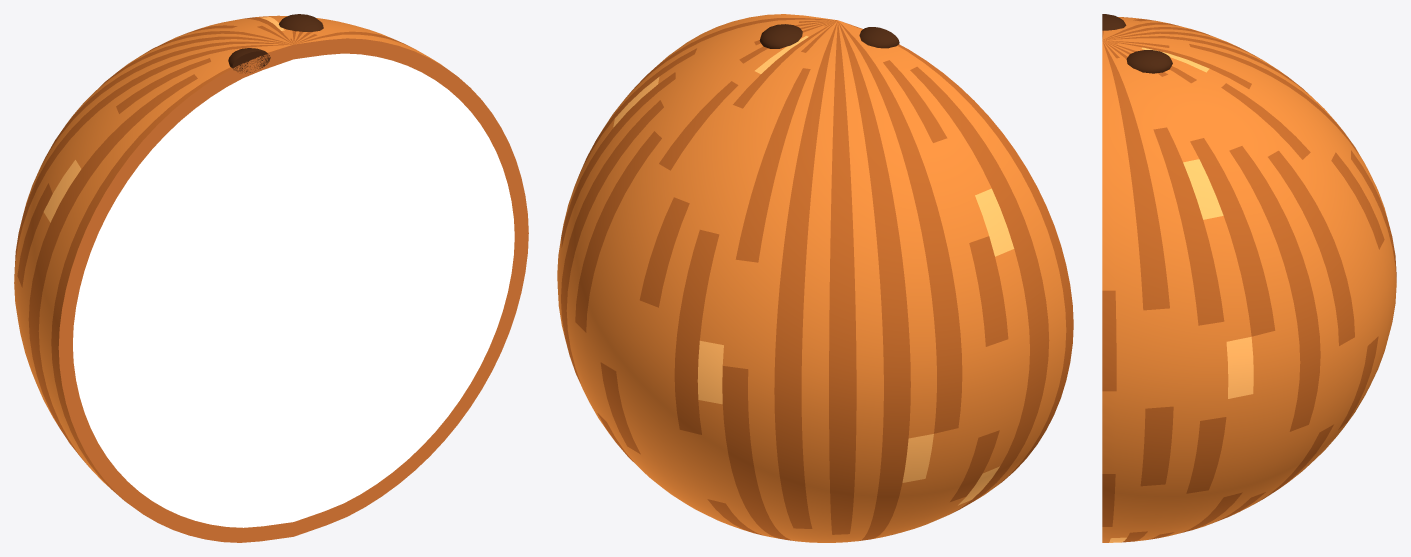
The picture shows the model from 3 angles, left to right: view 1: azimuth 30°, elevation 25°; view 2: azimuth 150°, elevation 25°; view 3: azimuth 270°, elevation 25°; orthographic projection. The views are drawn at different scales.
Parts seen in each view (by area): view 1: Coconut-left; view 2: Coconut-left; view 3: Coconut-left.
Part boxes in pixels (x1,y1,x2,y2): Coconut-left: (14, 14, 528, 542); Coconut-left: (557, 14, 1073, 542); Coconut-left: (1102, 14, 1396, 542).
Bounding box in the file's own units: 0.7952 × 0.8 × 0.4429.
